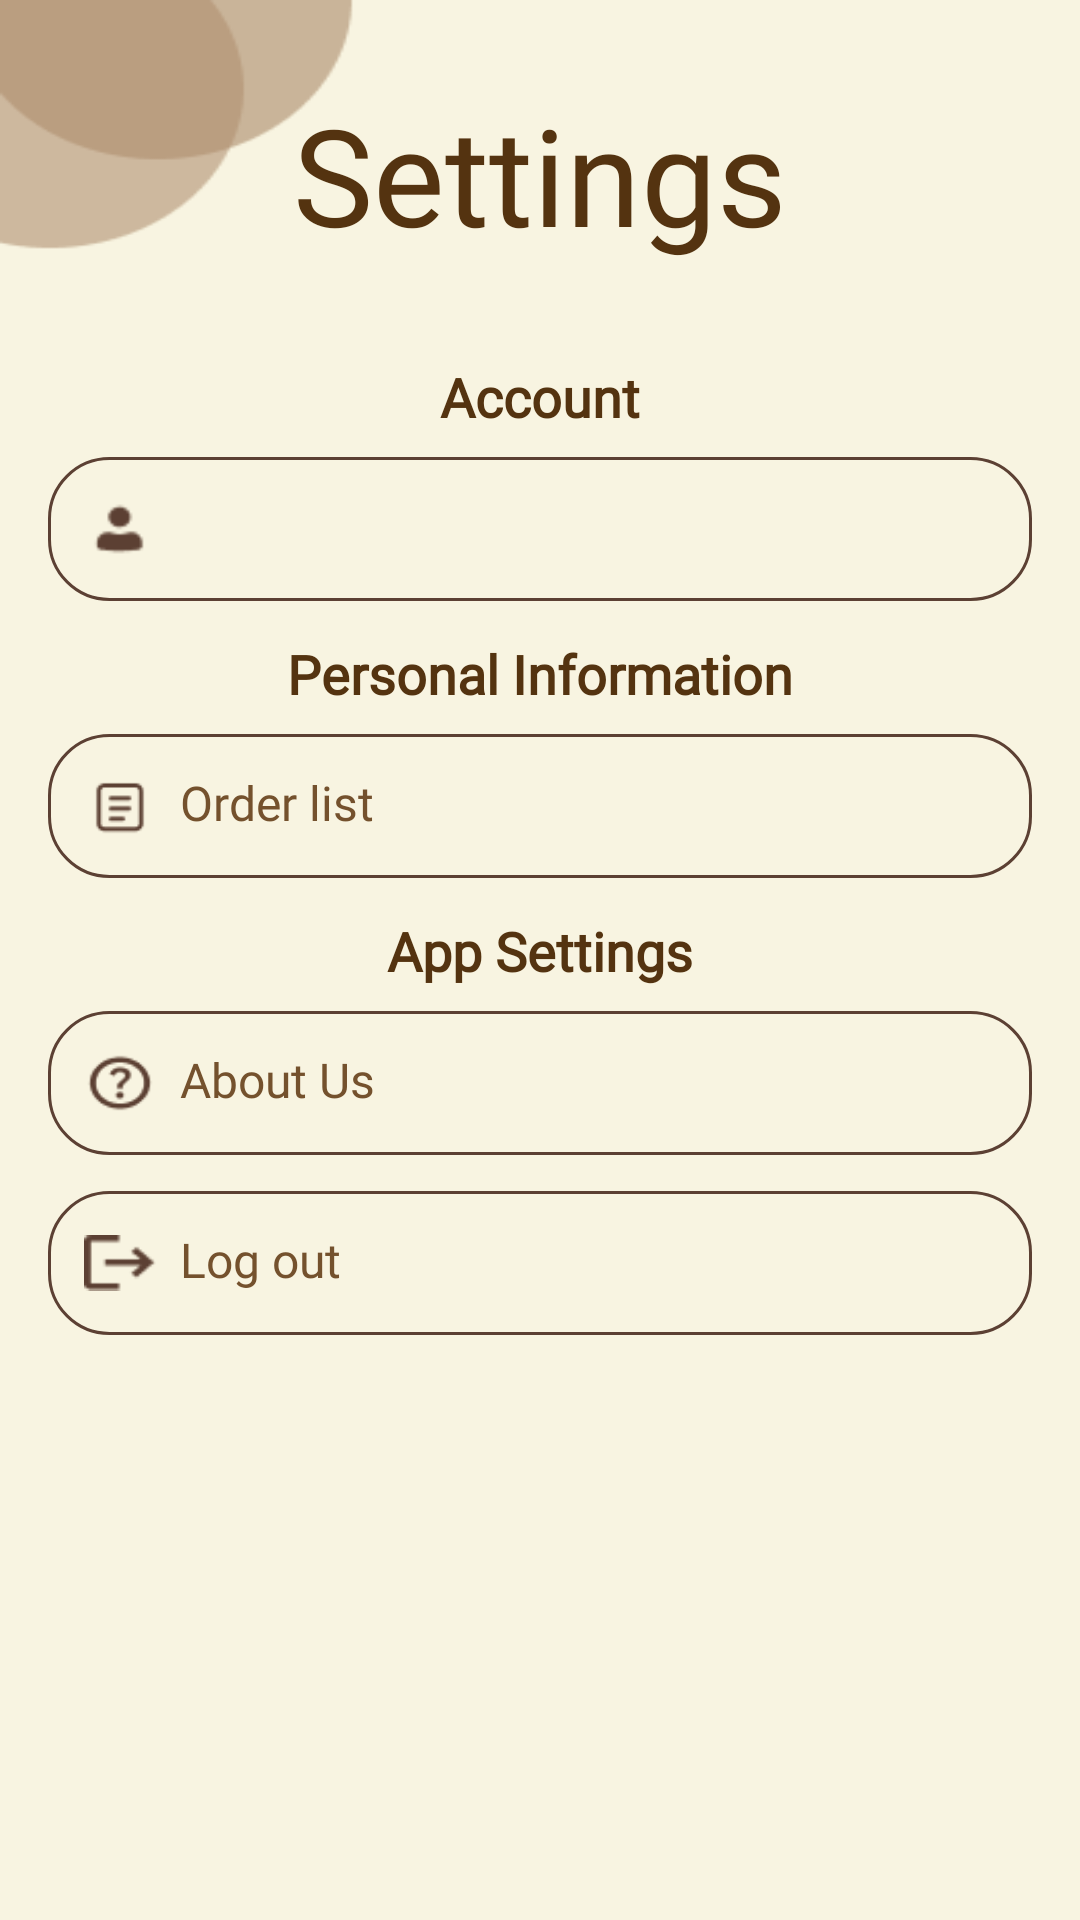

Named icons in this screenshot (1080 x 1920) and their bounding boxes, (x1, y1, x2, y2):
acco: (96, 505, 144, 553)
help: (89, 1056, 151, 1110)
